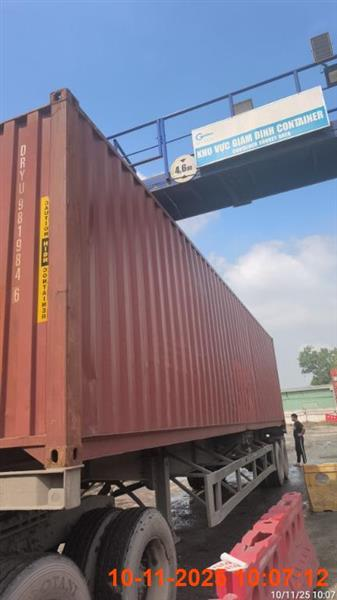broken: (0, 89, 290, 599), (290, 412, 307, 466)
